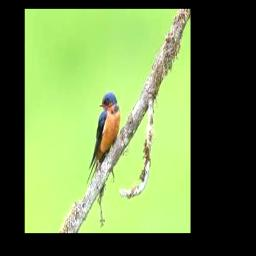Swallow: (87, 92, 121, 187)
